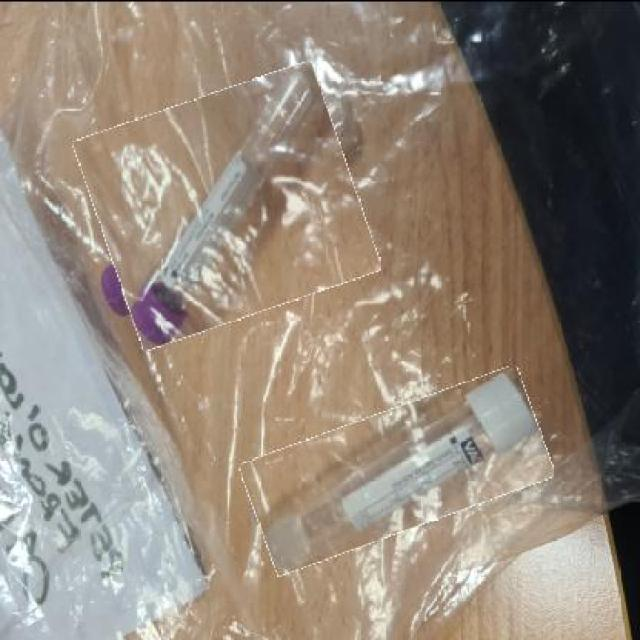Experimental-tube: (87, 75, 368, 332), (244, 386, 550, 552)
